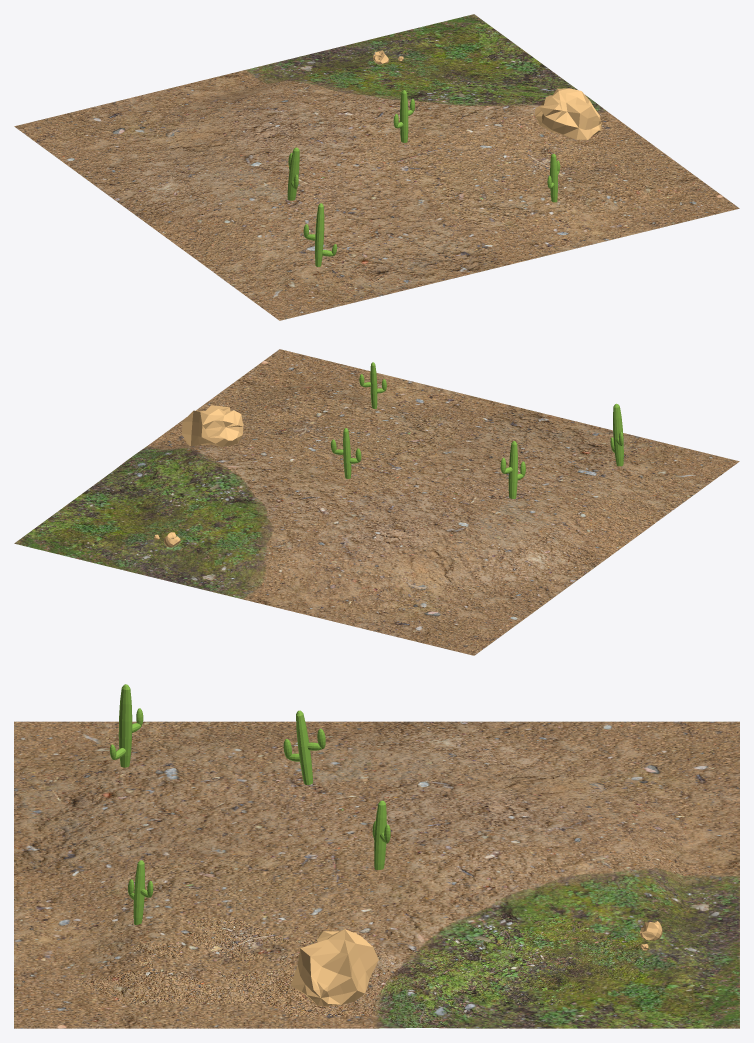
Rendered from SFSS.fbx.
3 renders of one model, top to bottom at view 1: azimuth 30°, elevation 25°; view 2: azimuth 150°, elevation 25°; view 3: azimuth 270°, elevation 25°, orthographic. The views are drawn at different scales.
Parts seen in each view (by area): view 1: Plane, group1446250878, group1910377098.001, group1305359395, group809628526; view 2: Plane, group1446250878, group1305359395, group1910377098.001, group809628526; view 3: Plane, group1446250878, group1305359395, group809628526, group1910377098.001, group1910377098.
Part boxes in pixels (left/top/right/bottom): Plane: left=14, top=14, right=739, bottom=320; group1446250878: left=535, top=88, right=601, bottom=139; group1910377098.001: left=393, top=90, right=414, bottom=142; group1305359395: left=287, top=147, right=299, bottom=200; group809628526: left=315, top=203, right=324, bottom=266; Plane: left=14, top=349, right=739, bottom=655; group1446250878: left=182, top=405, right=243, bottom=446; group1305359395: left=500, top=441, right=525, bottom=498; group1910377098.001: left=331, top=428, right=361, bottom=478; group809628526: left=613, top=403, right=623, bottom=466; Plane: left=14, top=721, right=739, bottom=1028; group1446250878: left=291, top=929, right=378, bottom=1006; group1305359395: left=283, top=710, right=325, bottom=784; group809628526: left=118, top=684, right=132, bottom=767; group1910377098.001: left=372, top=800, right=390, bottom=869; group1910377098: left=128, top=860, right=153, bottom=924.
Size of the model in its own units: 500 by 74.83 by 500.
